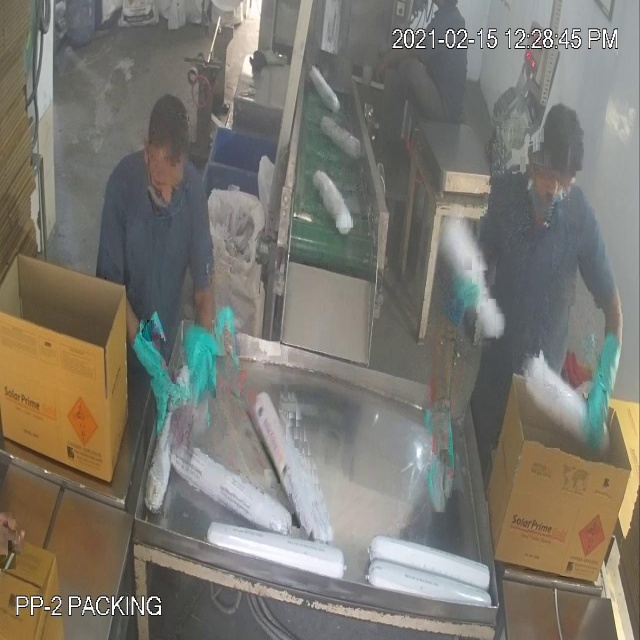Guantes: (564, 300, 630, 455), (118, 318, 183, 426), (180, 302, 228, 421)
Sin_guantes: (373, 35, 430, 82)
